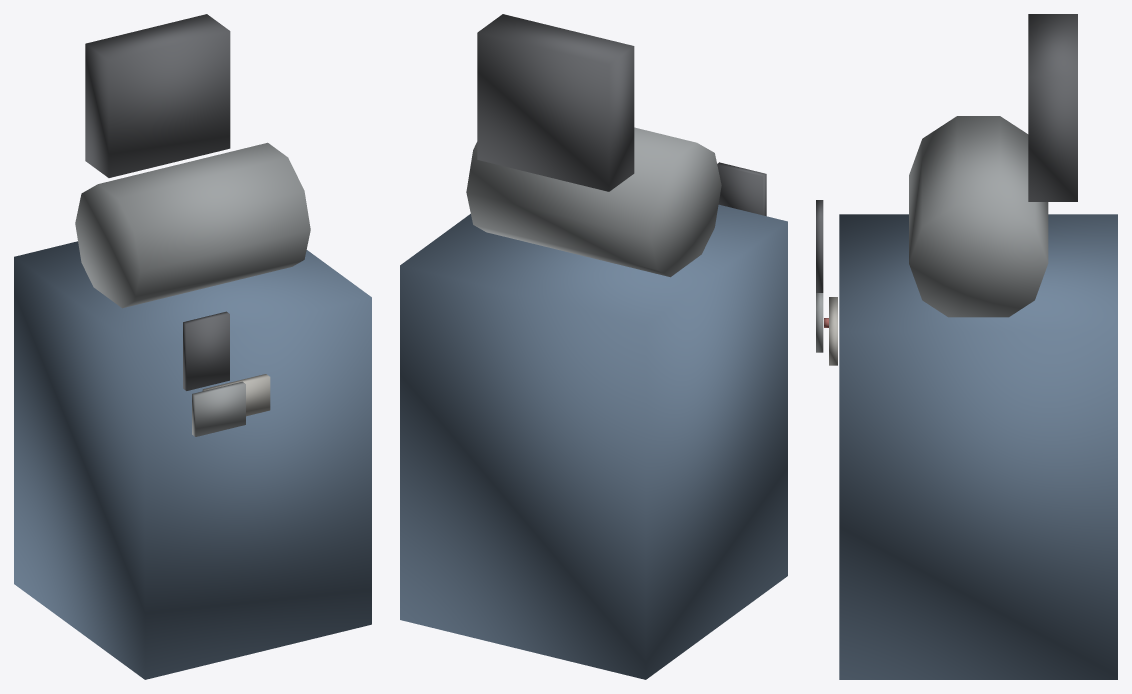
The model's file is wheel_balancer__weathered.glb.
3 views of the same model, side by side, from view 1: azimuth 30°, elevation 25°; view 2: azimuth 150°, elevation 25°; view 3: azimuth 270°, elevation 25° (orthographic). The views are drawn at different scales.
Visible parts, largest first — view 1: world; view 2: world; view 3: world.
Boxes of the visible parts, left/top/right/bottom form: world: left=14, top=14, right=371, bottom=679; world: left=400, top=14, right=787, bottom=679; world: left=816, top=14, right=1117, bottom=679.
Size of the model in its own units: 0.56 by 1.28 by 0.6067.
